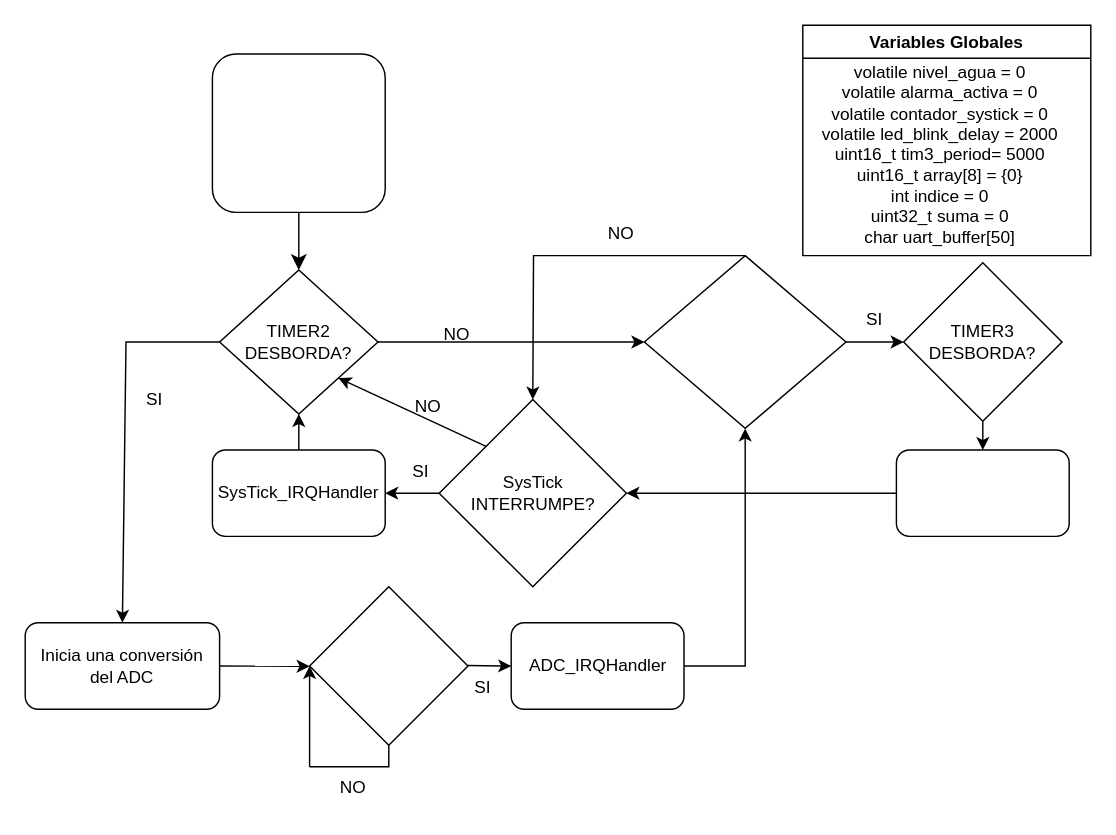
The diagram is 1116 pixels wide and 835 high, and some of its shapes have lost their labels. Here are the shapes that lost their labels. From the top down, the centre of each, then its label:
At (x=298, y=132): "Configurar GPIO SysTick TIMER RCC UART ADC DMA".
At (x=744, y=341): "TIMER3 HABILITADO?".
At (x=982, y=492): "TIMER3_IRQHandler".
At (x=388, y=665): "ADC INTERRUMPE?".
